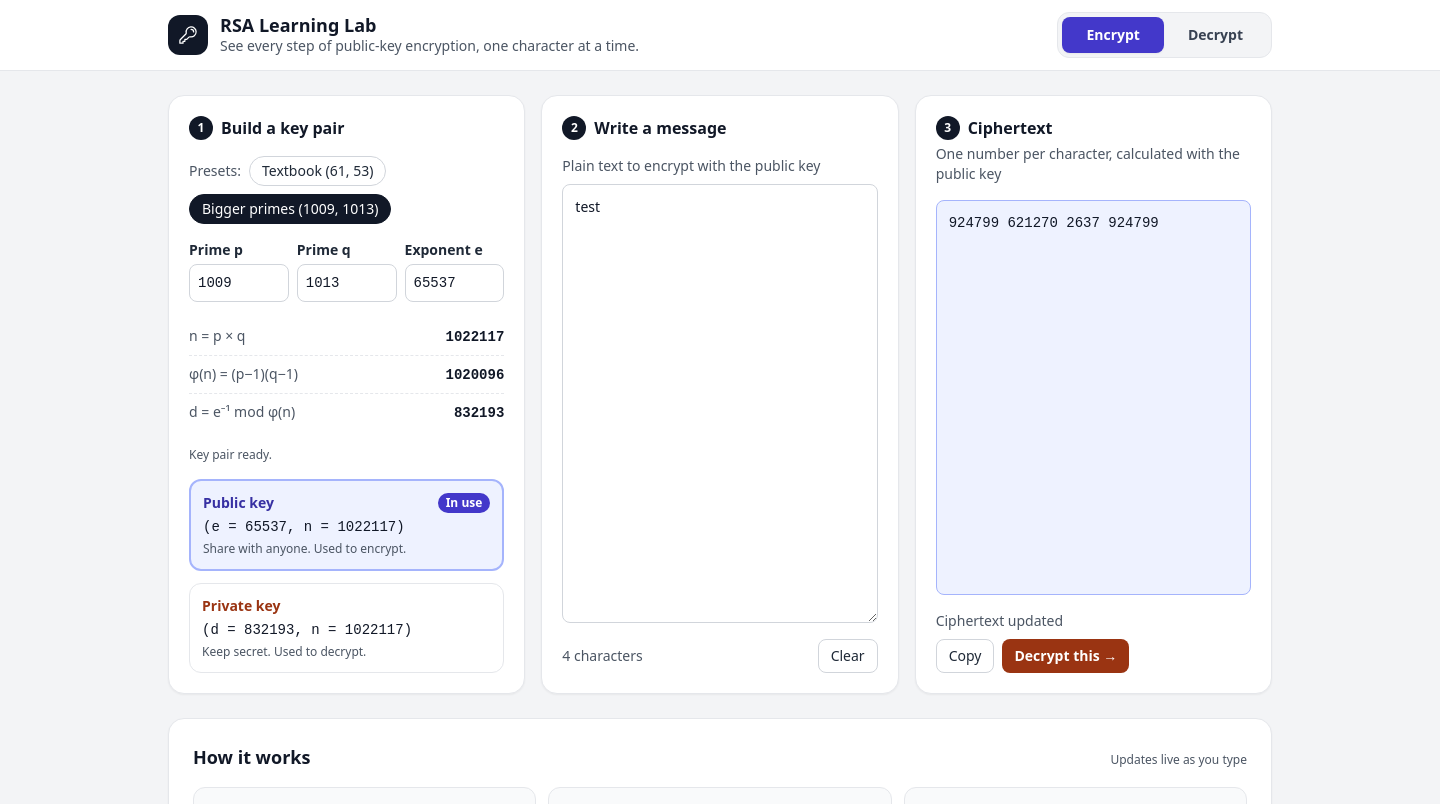
live encryption › Decrypt this switches to Decrypt mode and carries the live ciphertext
expect the text named "Ciphertext output" reads "924799 621270 2637 924799": met, box 949,215 -> 1159,231
Click the button "Decrypt this →" at (1066, 656), box 1002,639 -> 1129,673
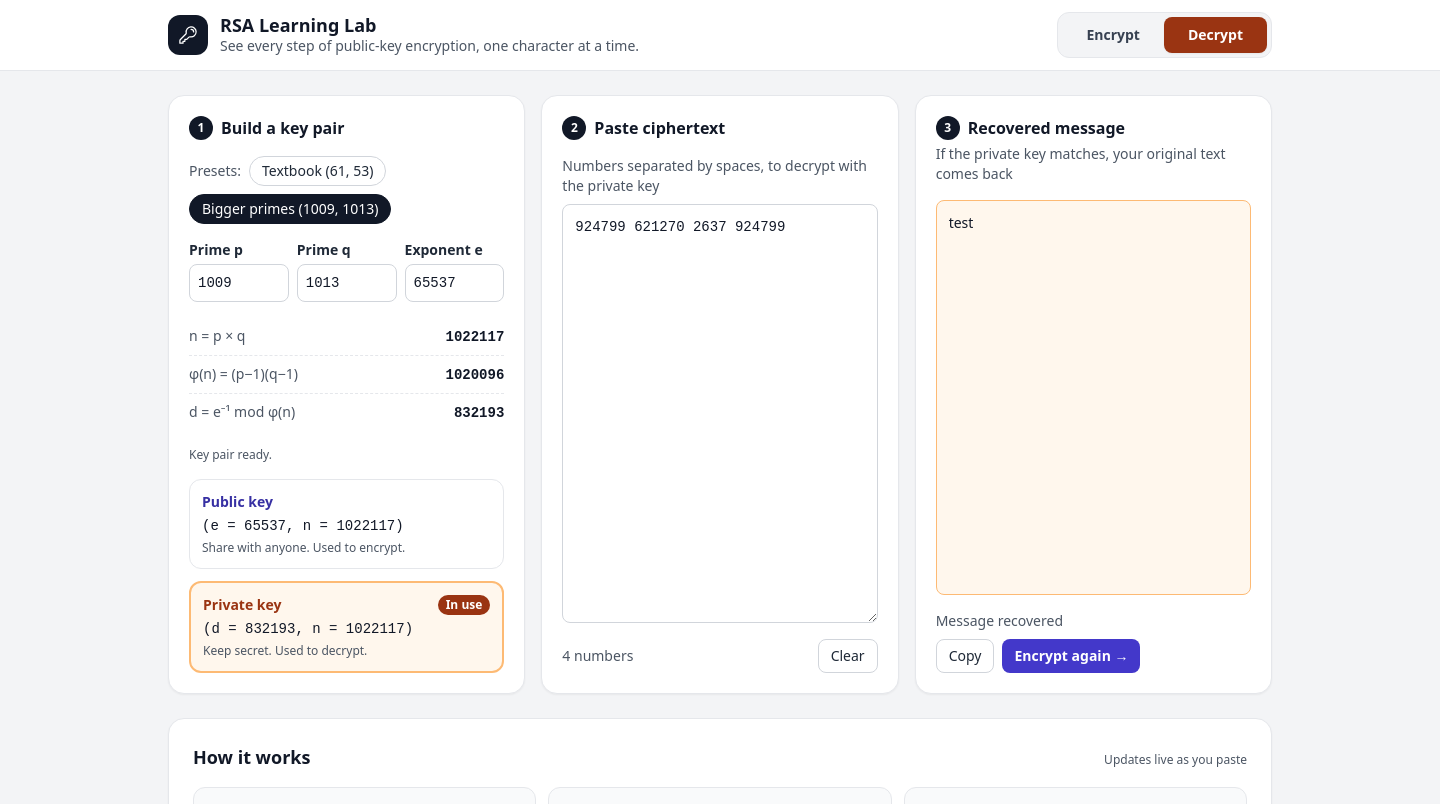
expect the radio button labelled "Decrypt" is checked: met, box 1164,17 -> 1267,53
expect the text box labelled "Numbers separated by spaces, to decrypt with the private key" holds "924799 621270 2637 924799": met, box 562,204 -> 878,623
expect the text named "Recovered message output" reads "test": met, box 949,213 -> 973,232
Click the radio button labelled "Encrypt" at (1113, 34), box 1086,25 -> 1140,44
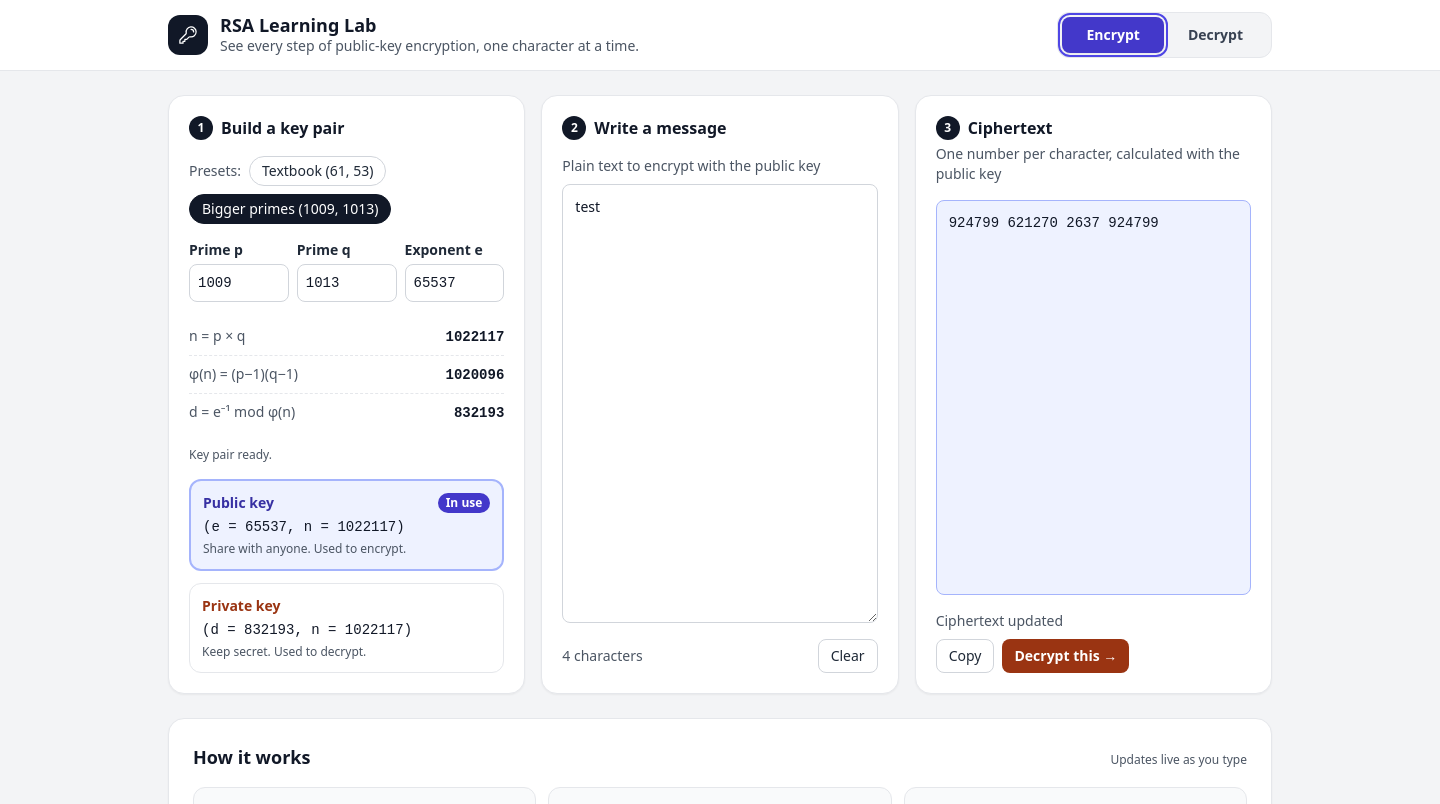
expect the text box labelled "Plain text to encrypt with the public key" holds "test": met, box 562,184 -> 878,623
expect the text named "Ciphertext output" reads "924799 621270 2637 924799": met, box 949,215 -> 1159,231
